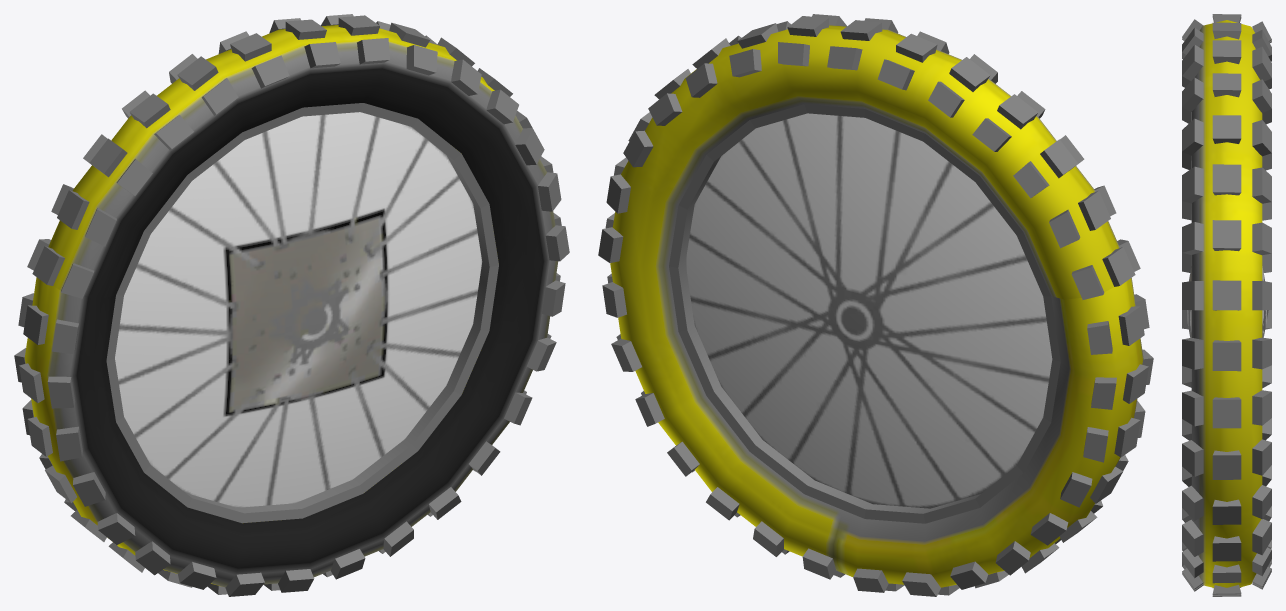
Rendered from WheelF_Honda.fbx.
3 views of the same model, side by side, from view 1: azimuth 30°, elevation 25°; view 2: azimuth 150°, elevation 25°; view 3: azimuth 270°, elevation 25° (orthographic). The views are drawn at different scales.
Visible parts, largest first — view 1: Cr250_WheelF; view 2: Cr250_WheelF; view 3: Cr250_WheelF.
Boxes of the visible parts, box(x1,y1,x2,y2) form: Cr250_WheelF: box(14, 14, 569, 596); Cr250_WheelF: box(598, 14, 1153, 596); Cr250_WheelF: box(1182, 14, 1271, 596).
Bounding box in the file's own units: 54.69 × 54.67 × 8.37.
